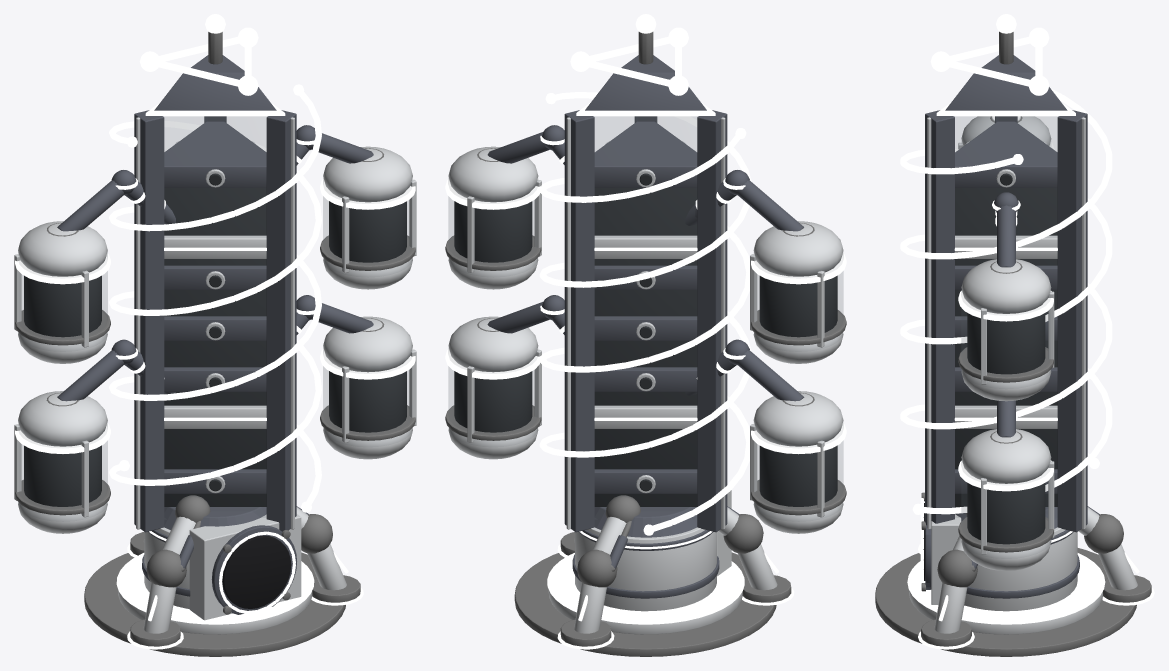
Rendered from VEX_Vat_T4.glb.
3 views of the same model, side by side, from view 1: azimuth 30°, elevation 25°; view 2: azimuth 150°, elevation 25°; view 3: azimuth 270°, elevation 25° (orthographic).
Visible parts, largest first — view 1: VEX_Vat_T4; view 2: VEX_Vat_T4; view 3: VEX_Vat_T4.
Boxes of the visible parts, box(x1,y1,x2,y2) form: VEX_Vat_T4: box(14, 14, 416, 656); VEX_Vat_T4: box(445, 14, 846, 656); VEX_Vat_T4: box(875, 14, 1154, 656).
Bounding box in the file's own units: 5.98 × 8.64 × 3.73.
